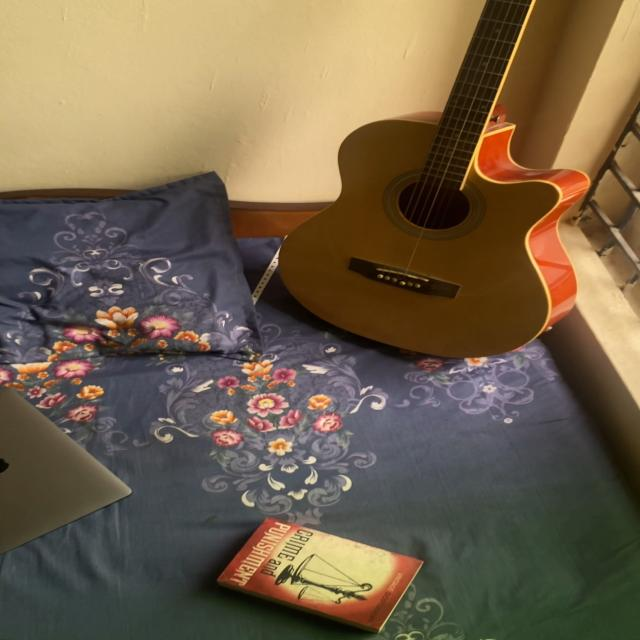book: (208, 513, 465, 640)
guitar: (275, 11, 640, 376)
laptop: (0, 375, 145, 564)
